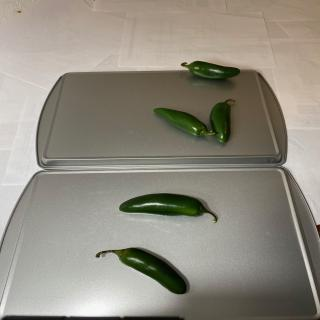Chilli: (95, 247, 187, 295), (152, 98, 236, 143), (119, 192, 218, 224)
Tomato: (180, 60, 240, 80), (210, 99, 237, 143)
